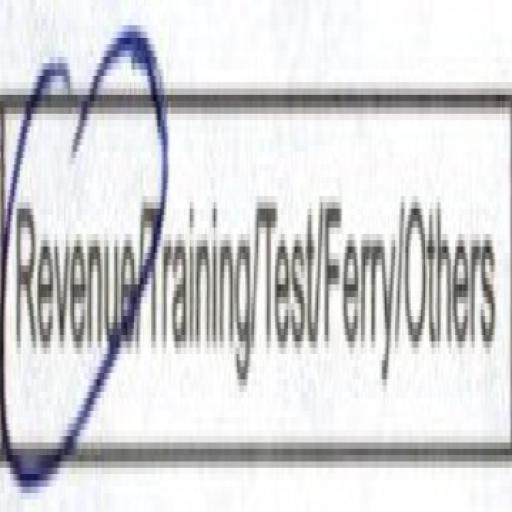check: (0, 0, 145, 494)
